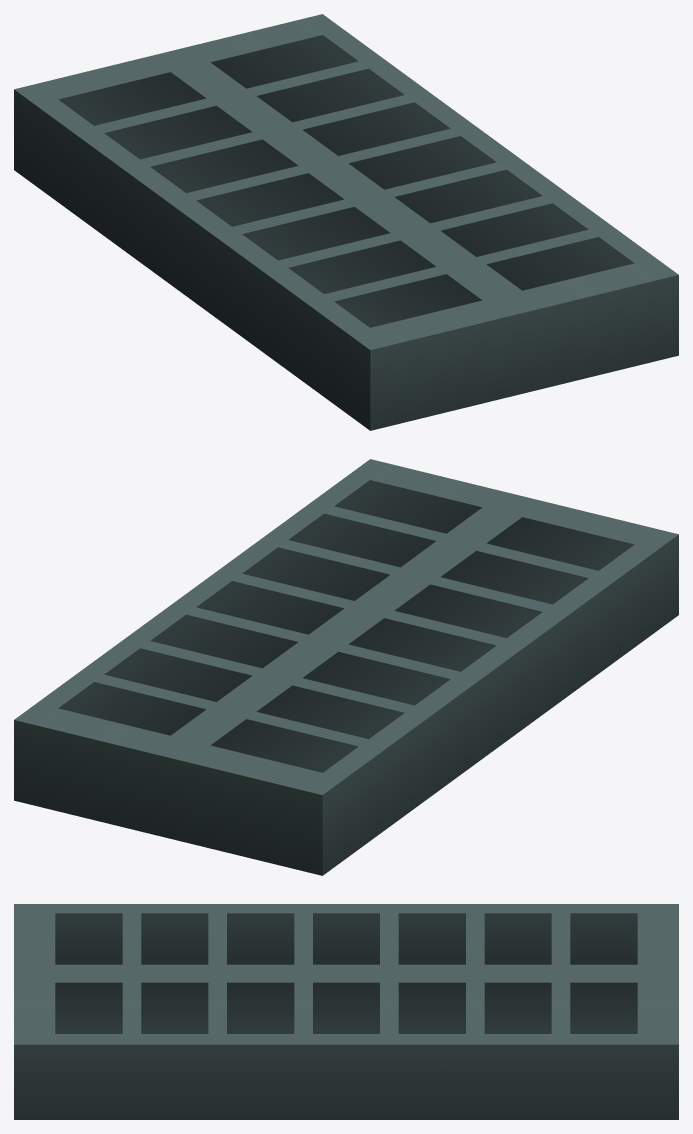
File: Manhole_1A.fbx
3 renders of one model, top to bottom at view 1: azimuth 30°, elevation 25°; view 2: azimuth 150°, elevation 25°; view 3: azimuth 270°, elevation 25°, orthographic. The views are drawn at different scales.
Visible parts, largest first — view 1: Manhole_1A; view 2: Manhole_1A; view 3: Manhole_1A.
Part boxes in pixels (<box>): Manhole_1A: <box>14,14,678,430</box>; Manhole_1A: <box>14,459,678,875</box>; Manhole_1A: <box>14,904,678,1119</box>.
Size of the model in its own units: 0.8 by 0.2018 by 1.6.
